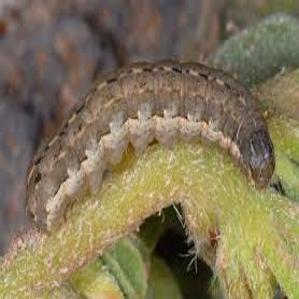Beet armyworm: (12, 37, 286, 248)
